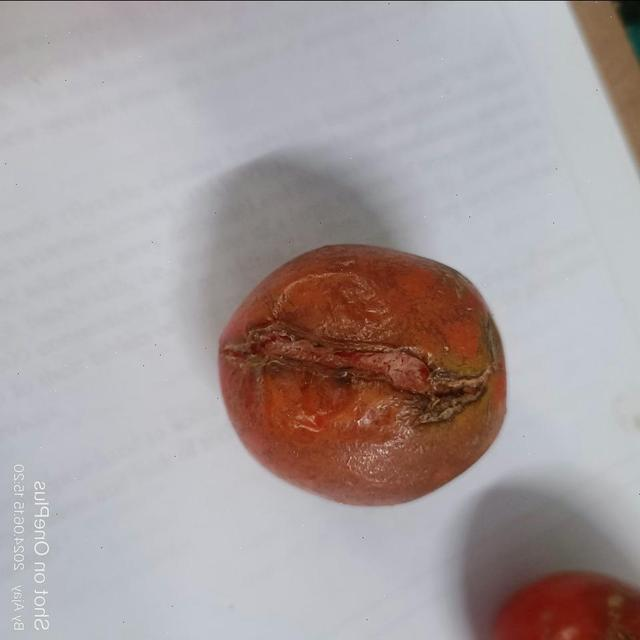Cracking Fruit: (80, 89, 232, 329)
